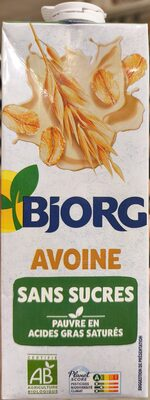Avoine sans sucres: (7, 20, 142, 380)
